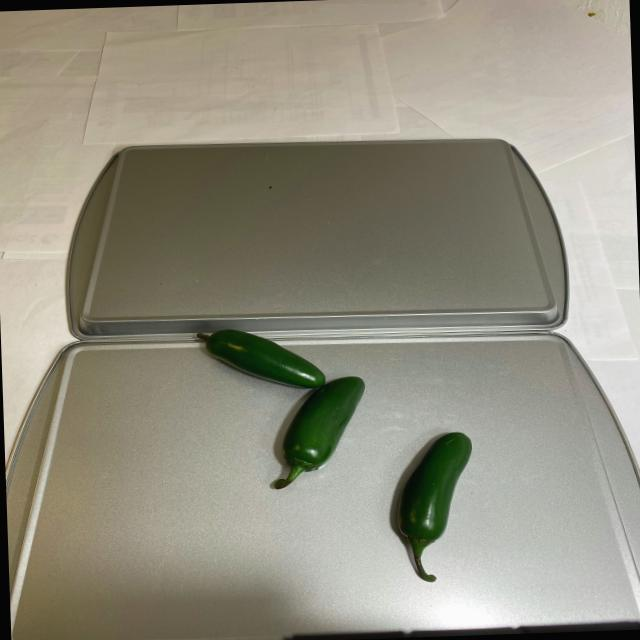chilli: (188, 316, 483, 598)
